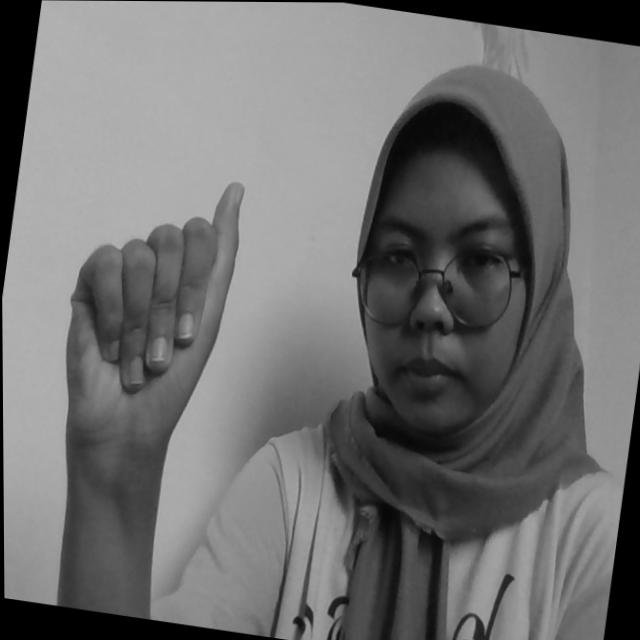A: (53, 160, 251, 447)
